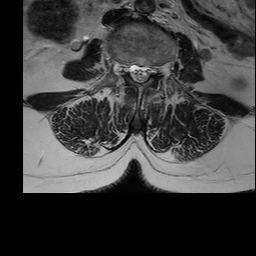CCS_normal: (135, 54, 143, 90)
LFS_normal: (151, 56, 160, 84)
LLS_normal: (143, 57, 151, 86)
RFS_normal: (120, 54, 128, 82)
RLS_normal: (128, 54, 135, 87)
